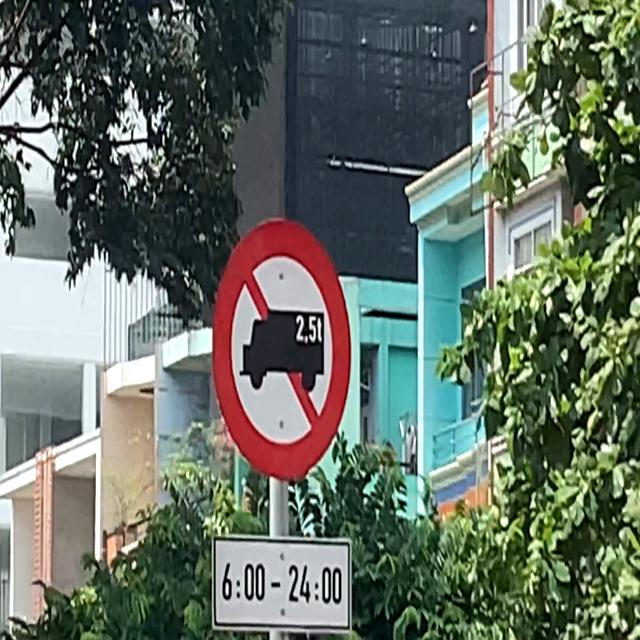P.106b: (210, 214, 357, 486)
